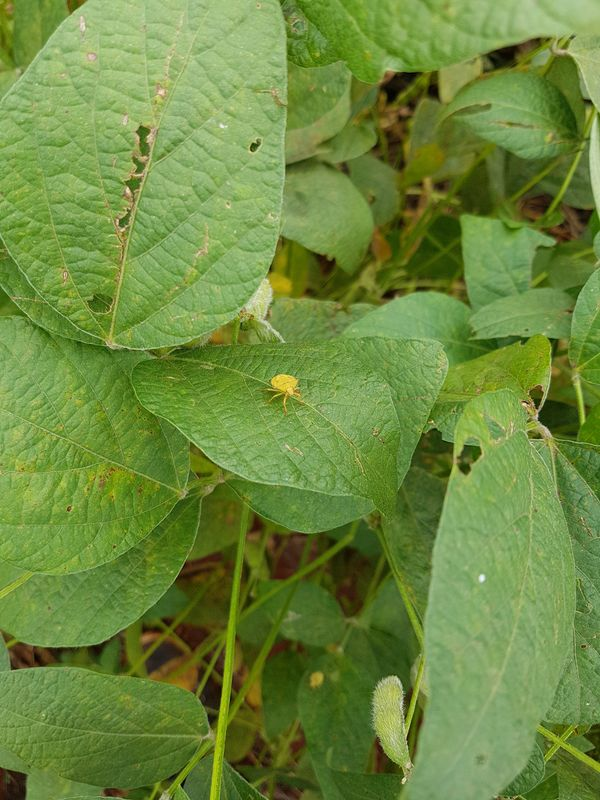Euschistus_heros_ninfa: (257, 366, 314, 420)
